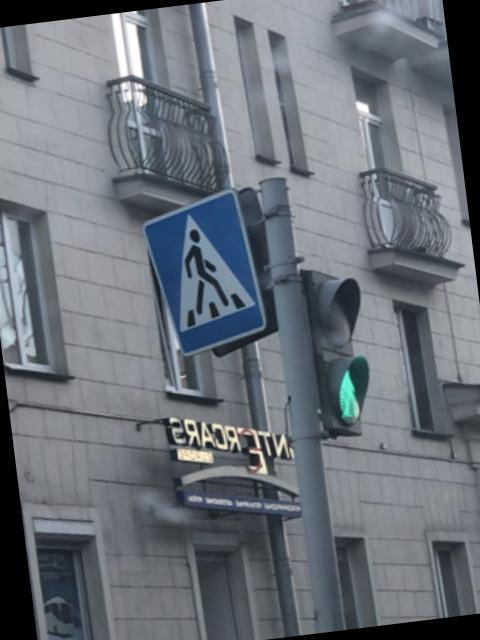crosswalk-sign: (139, 182, 280, 363)
